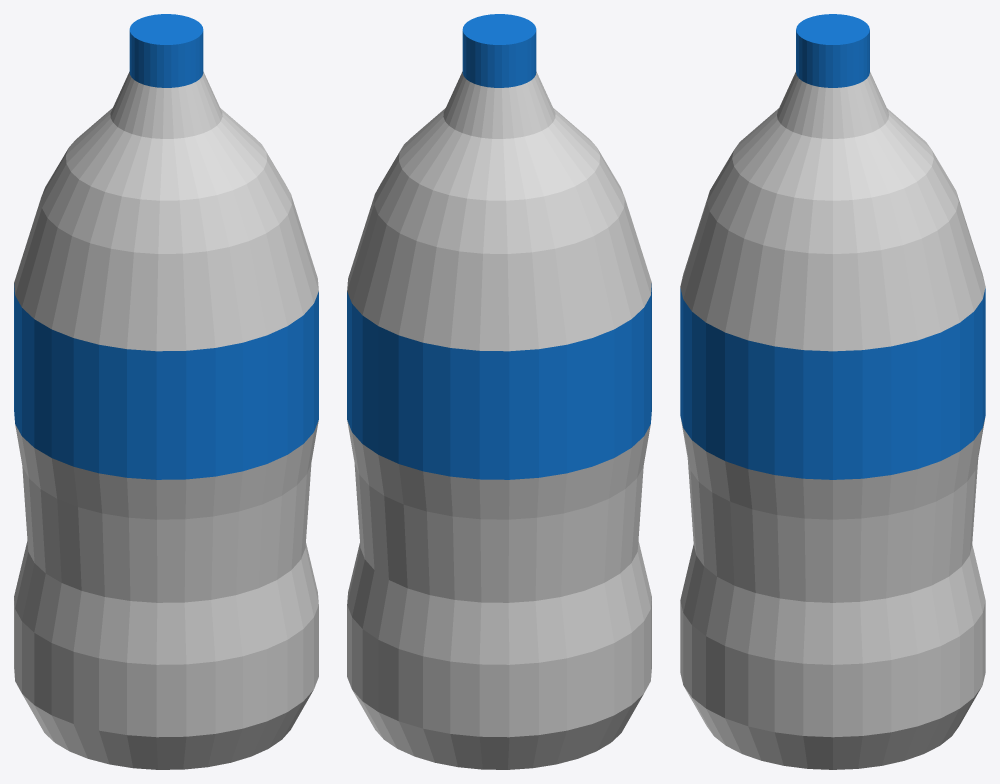
Rendered from bottle.fbx.
3 views of the same model, side by side, from view 1: azimuth 30°, elevation 25°; view 2: azimuth 150°, elevation 25°; view 3: azimuth 270°, elevation 25° (orthographic).
Visible parts, largest first — view 1: Cylinder; view 2: Cylinder; view 3: Cylinder.
Part boxes in pixels (x1,y1,x2,y2): Cylinder: [14, 14, 318, 769]; Cylinder: [347, 14, 651, 769]; Cylinder: [680, 14, 985, 769].
Size of the model in its own units: 21.29 by 52.78 by 21.29.
